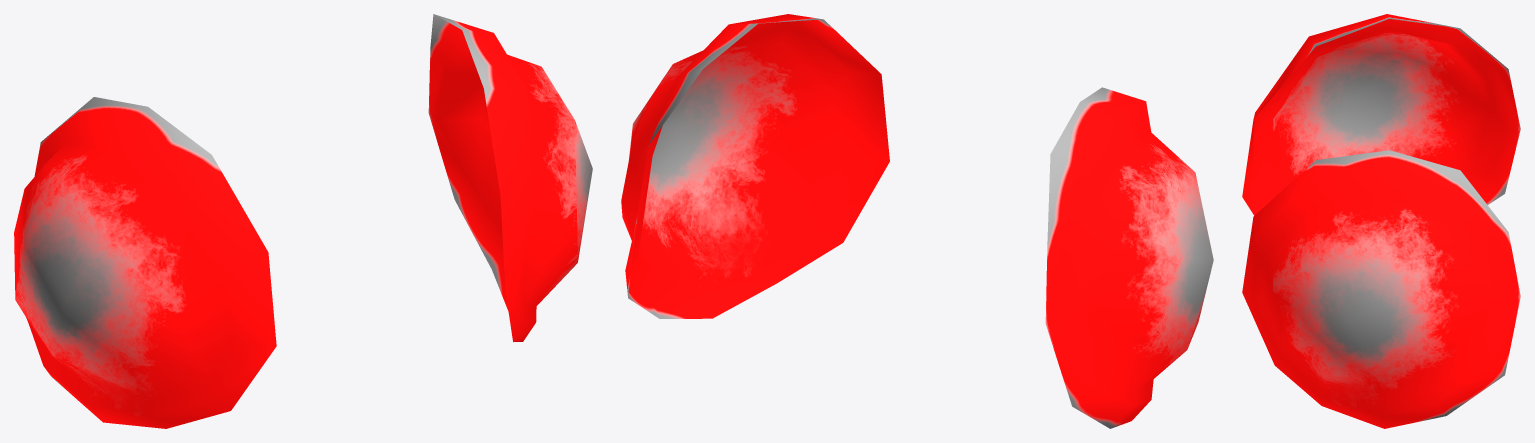
The model's file is Red_eyes.fbx.
The picture shows the model from 3 angles, left to right: view 1: azimuth 30°, elevation 25°; view 2: azimuth 150°, elevation 25°; view 3: azimuth 270°, elevation 25°; orthographic projection. The views are drawn at different scales.
Parts seen in each view (by area): view 1: Chicken_low.001; view 2: Chicken_low.001; view 3: Chicken_low.001.
Boxes of the visible parts, x1,y1,x2,y2 form: Chicken_low.001: [14, 14, 592, 428]; Chicken_low.001: [621, 14, 1213, 428]; Chicken_low.001: [1242, 14, 1520, 428].
Size of the model in its own units: 9.86 by 5.32 by 5.19.
